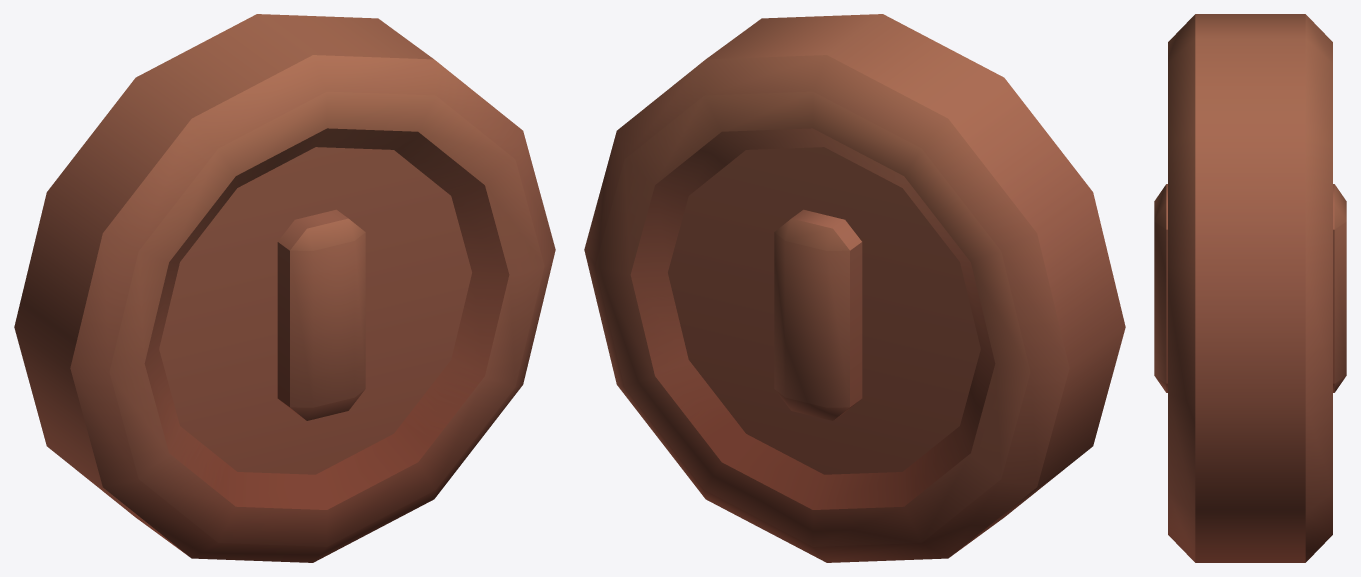
The model's file is coin_c.glb.
The picture shows the model from 3 angles, left to right: view 1: azimuth 30°, elevation 25°; view 2: azimuth 150°, elevation 25°; view 3: azimuth 270°, elevation 25°; orthographic projection.
Visible parts, largest first — view 1: Coin_C; view 2: Coin_C; view 3: Coin_C.
Part boxes in pixels (left/top/right/bottom): Coin_C: left=14, top=14, right=555, bottom=562; Coin_C: left=584, top=14, right=1125, bottom=562; Coin_C: left=1154, top=14, right=1346, bottom=562.
Bounding box in the file's own units: 1 × 1 × 0.3492.
Materials: 1 (1 with a texture image).
